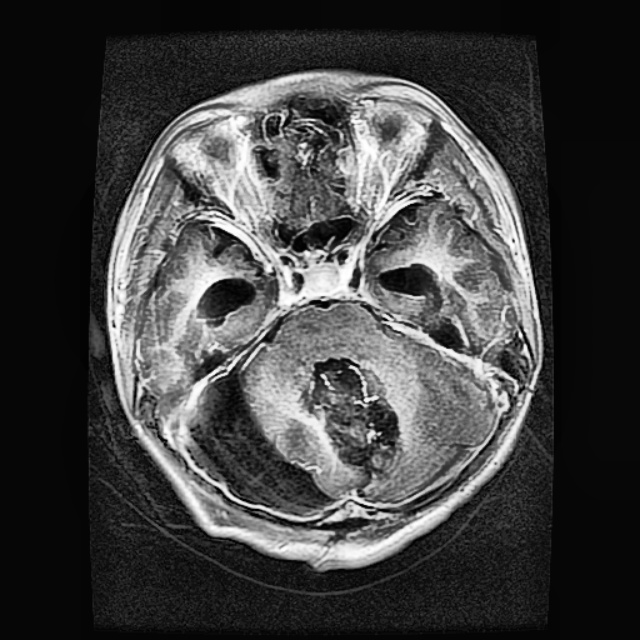Glioma: (302, 354, 403, 468)
